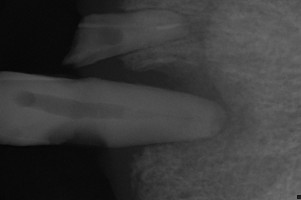Dental Caries: (158, 63, 233, 134)
Furcation Involvement: (170, 10, 210, 47)
